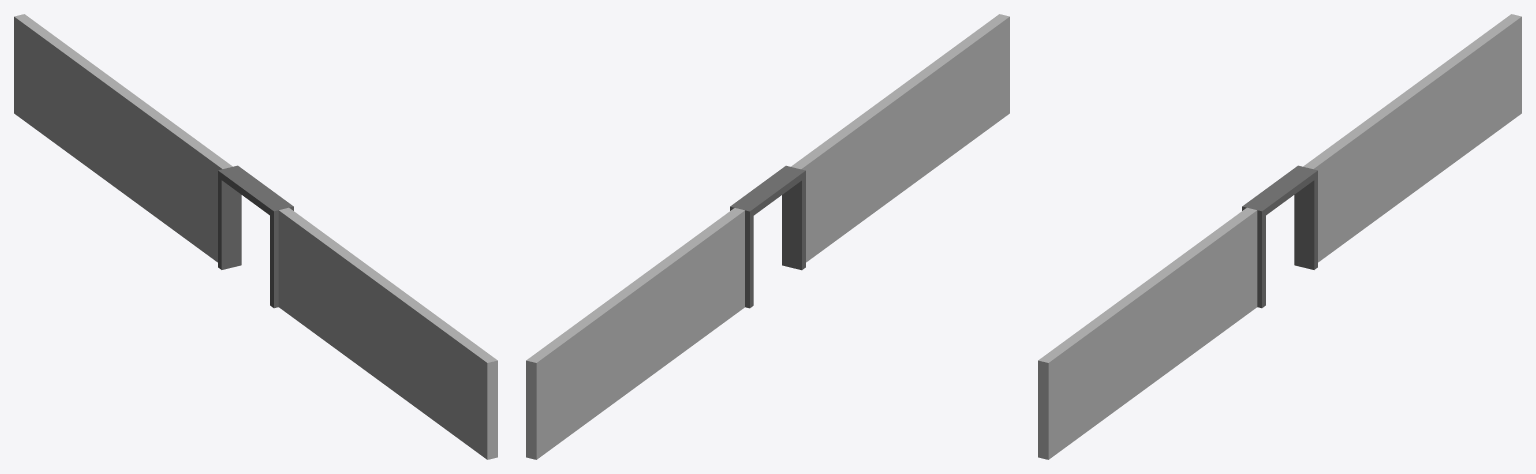
Rendered from TUONGRONG_SANHOATIET.fbx.
3 views of the same model, side by side, from view 1: azimuth 30°, elevation 25°; view 2: azimuth 150°, elevation 25°; view 3: azimuth 330°, elevation 25° (orthographic).
Visible parts, largest first — view 1: TUONGRONG_SANHOATIET; view 2: TUONGRONG_SANHOATIET; view 3: TUONGRONG_SANHOATIET.
Part boxes in pixels (x1=…): TUONGRONG_SANHOATIET: x1=14, y1=14, x2=497, y2=459; TUONGRONG_SANHOATIET: x1=526, y1=14, x2=1009, y2=459; TUONGRONG_SANHOATIET: x1=1038, y1=14, x2=1521, y2=459.
Size of the model in its own units: 114 by 532 by 4706.
